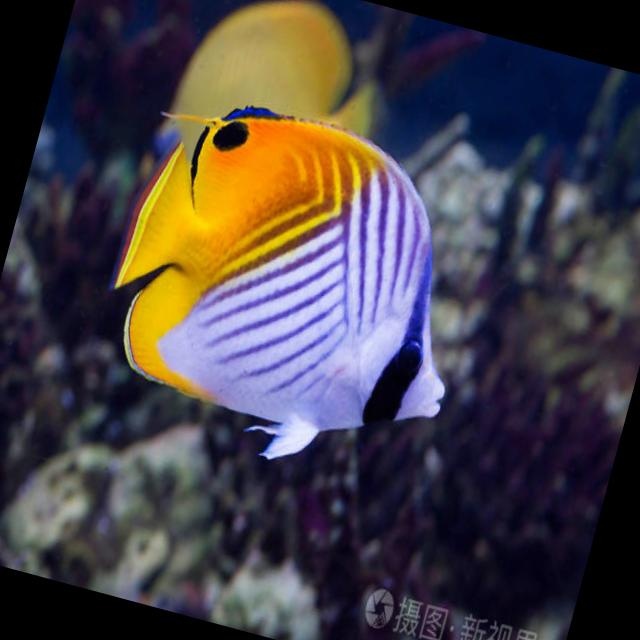ButterflyFish: (76, 78, 505, 501)
